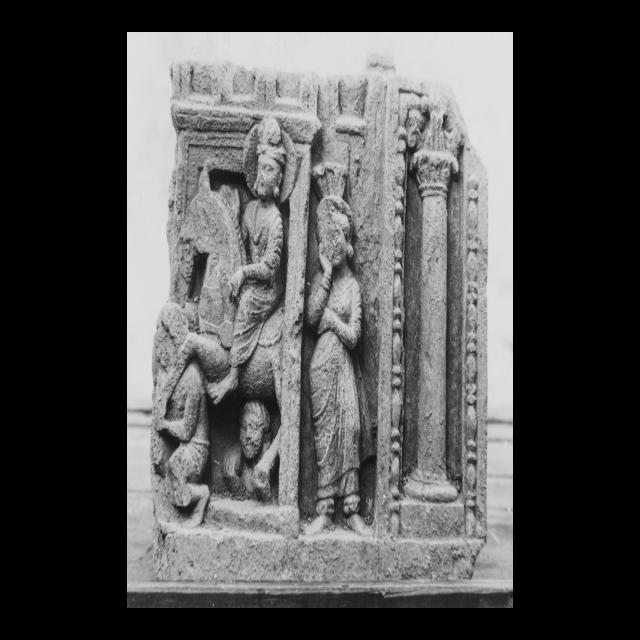buddha-horse-riding: (164, 116, 298, 407)
